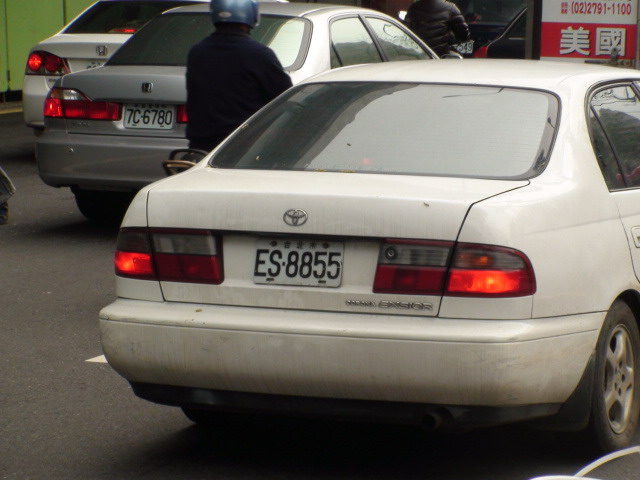plate: (252, 236, 347, 293), (122, 99, 176, 133)
